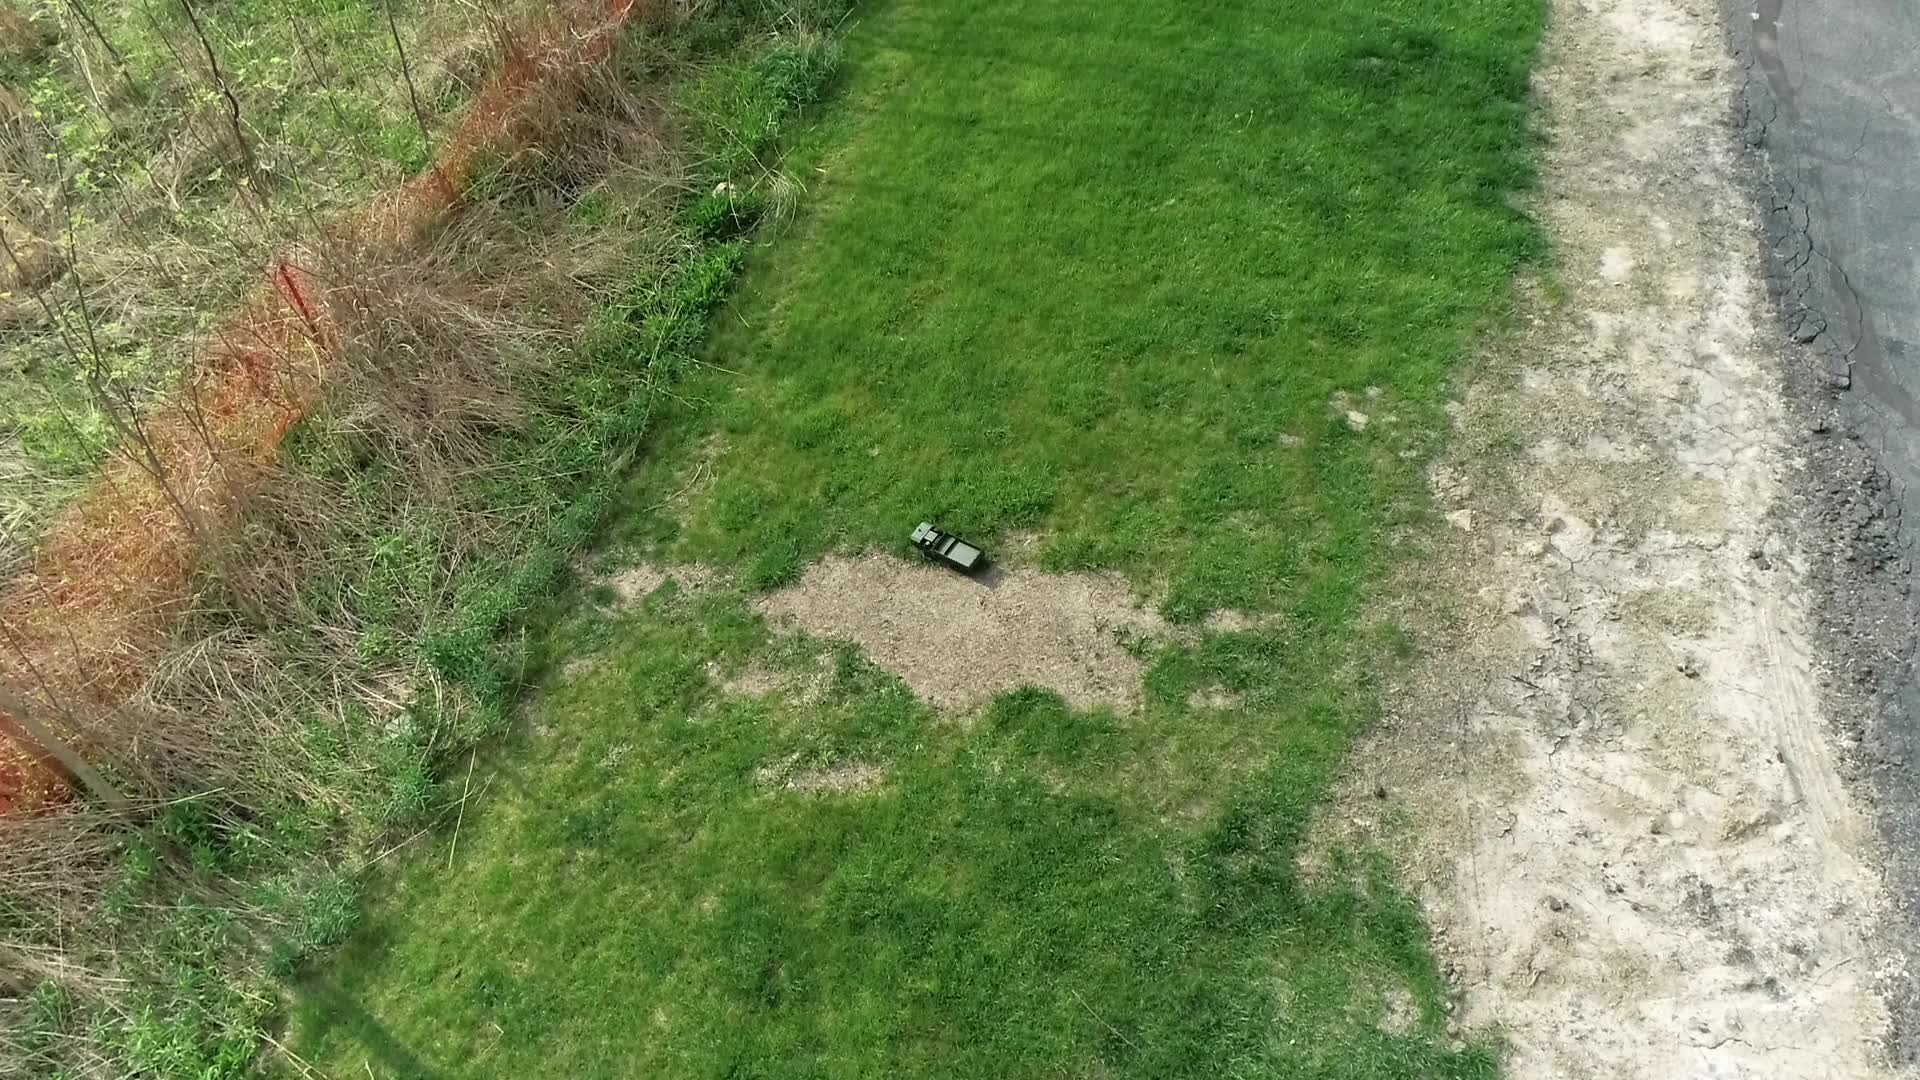transporter9: (907, 520, 988, 578)
